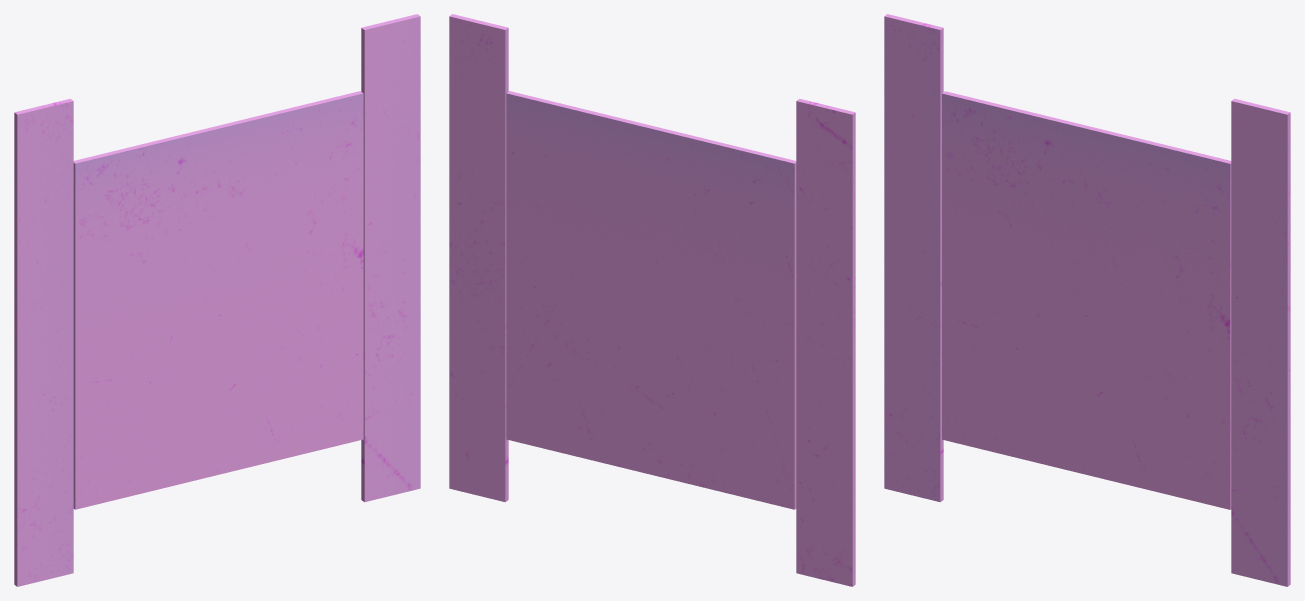
Rendered from BathroomStall_02_SM_Low.fbx.
3 views of the same model, side by side, from view 1: azimuth 30°, elevation 25°; view 2: azimuth 150°, elevation 25°; view 3: azimuth 330°, elevation 25° (orthographic).
Parts seen in each view (by area): view 1: Door, Wall, Wall1; view 2: Door, Wall, Wall1; view 3: Door, Wall1, Wall.
Boxes of the visible parts, bbox=[...] form: Door: bbox=[73, 91, 363, 509]; Wall: bbox=[14, 98, 73, 586]; Wall1: bbox=[361, 14, 420, 502]; Door: bbox=[506, 91, 796, 509]; Wall: bbox=[796, 98, 855, 586]; Wall1: bbox=[449, 14, 508, 502]; Door: bbox=[942, 91, 1231, 509]; Wall1: bbox=[1231, 98, 1290, 586]; Wall: bbox=[884, 14, 943, 502].
Size of the model in its own units: 3.08 by 3.45 by 0.043.
1 material, 1 textured.
